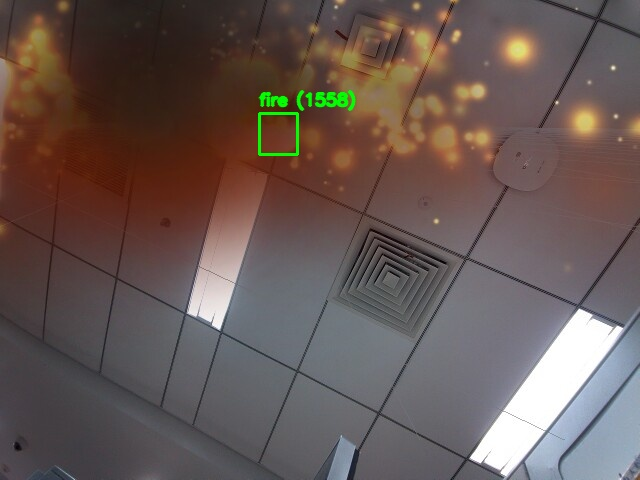fire: (259, 113, 297, 154)
